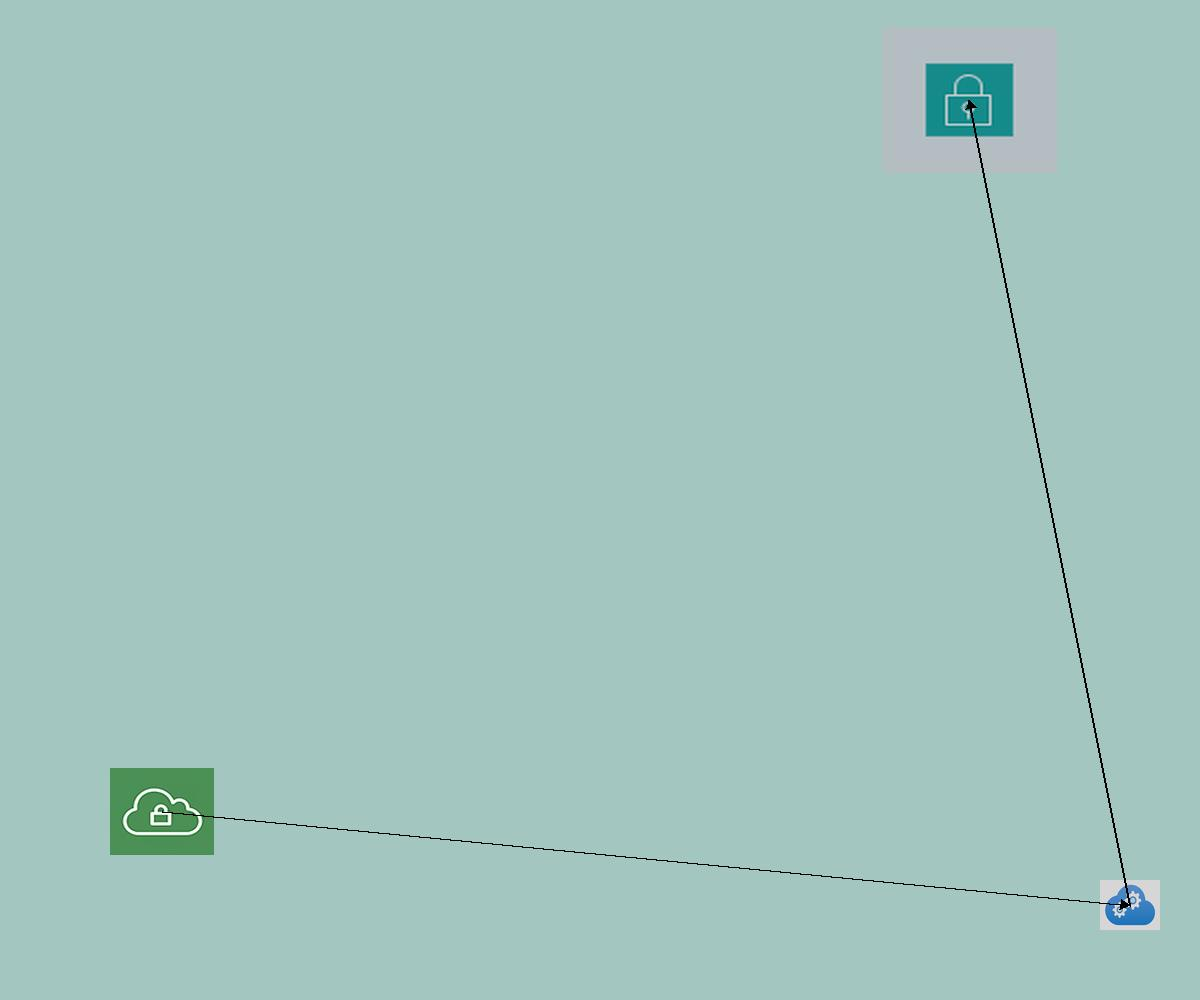AWS-Private-subnet: (882, 27, 1057, 173)
AWS-Private_vpc: (110, 768, 214, 855)
Azure_cloud_services: (1100, 880, 1160, 930)
